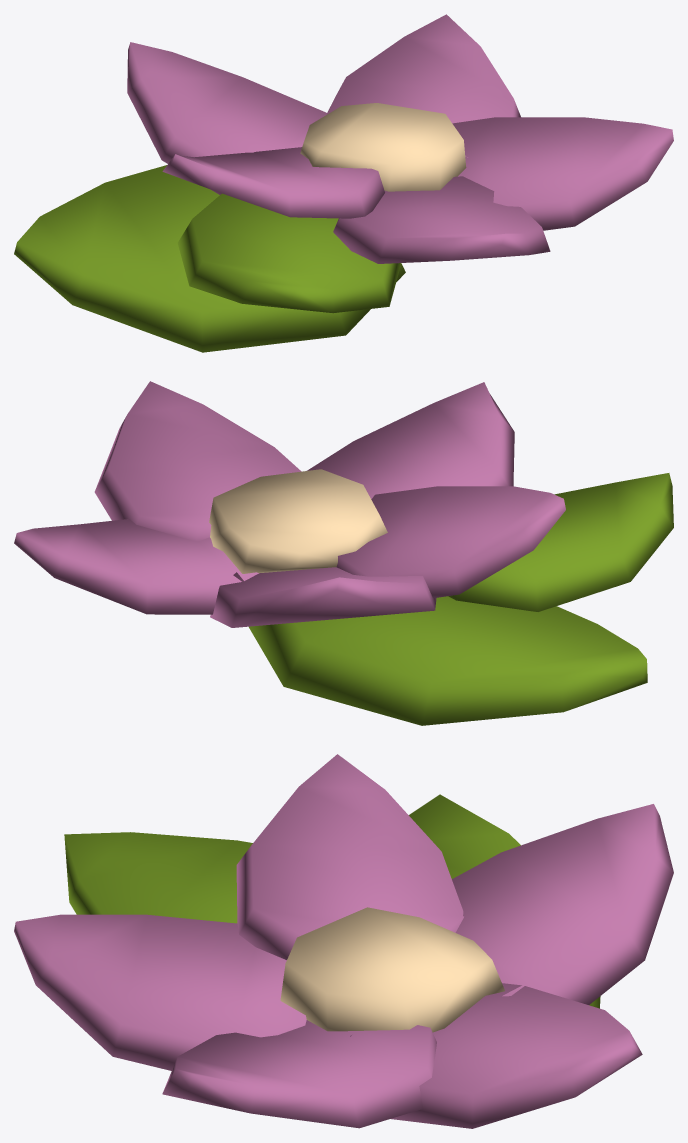
File: flower.fbx
3 views of the same model, one above another, from view 1: azimuth 30°, elevation 25°; view 2: azimuth 150°, elevation 25°; view 3: azimuth 270°, elevation 25° (orthographic). The views are drawn at different scales.
Visible parts, largest first — view 1: Cube.007; view 2: Cube.007; view 3: Cube.007.
Part boxes in pixels (box(x1,y1,x2,y2)): Cube.007: box(14, 14, 673, 352); Cube.007: box(14, 381, 673, 725); Cube.007: box(14, 754, 673, 1128).
Size of the model in its own units: 51.13 by 15.07 by 41.39.
